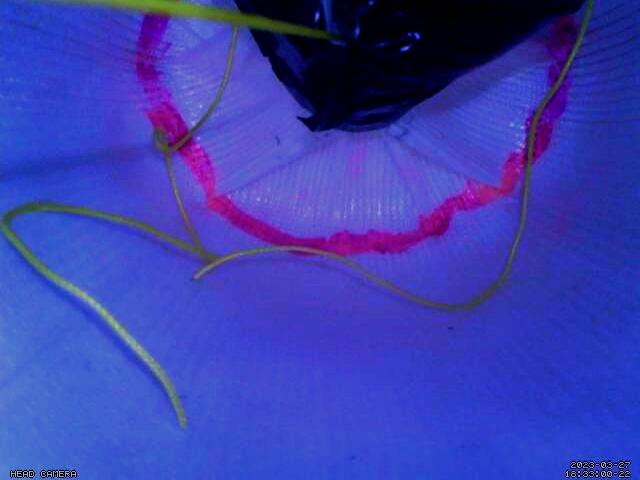head: (133, 12, 580, 255)
